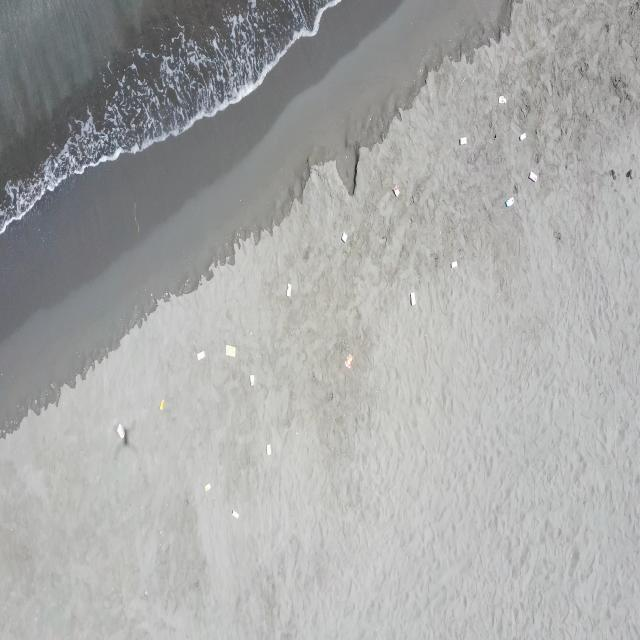Garbage: (224, 344, 235, 356), (344, 352, 352, 367), (116, 423, 123, 439), (504, 196, 513, 207), (392, 184, 399, 196), (196, 350, 204, 360), (528, 171, 536, 181), (497, 95, 506, 103), (409, 292, 415, 304), (286, 283, 291, 296), (203, 483, 211, 491), (519, 131, 526, 140), (232, 508, 239, 517), (340, 232, 347, 241), (266, 443, 271, 455), (249, 373, 253, 386), (459, 136, 466, 143), (159, 399, 163, 409), (451, 260, 456, 267)
